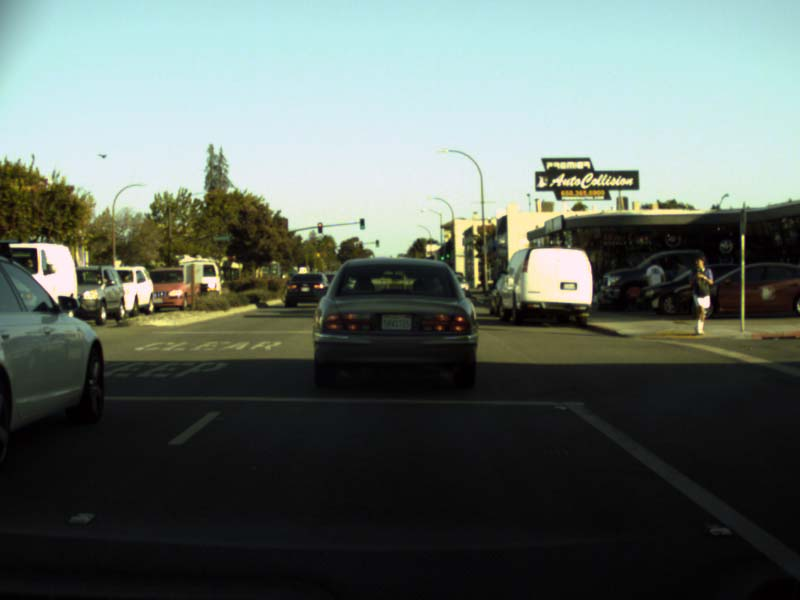Green: (439, 250, 444, 261), (445, 244, 449, 257), (360, 218, 364, 229), (376, 240, 378, 246)
Red: (317, 222, 322, 232), (359, 241, 361, 247)
